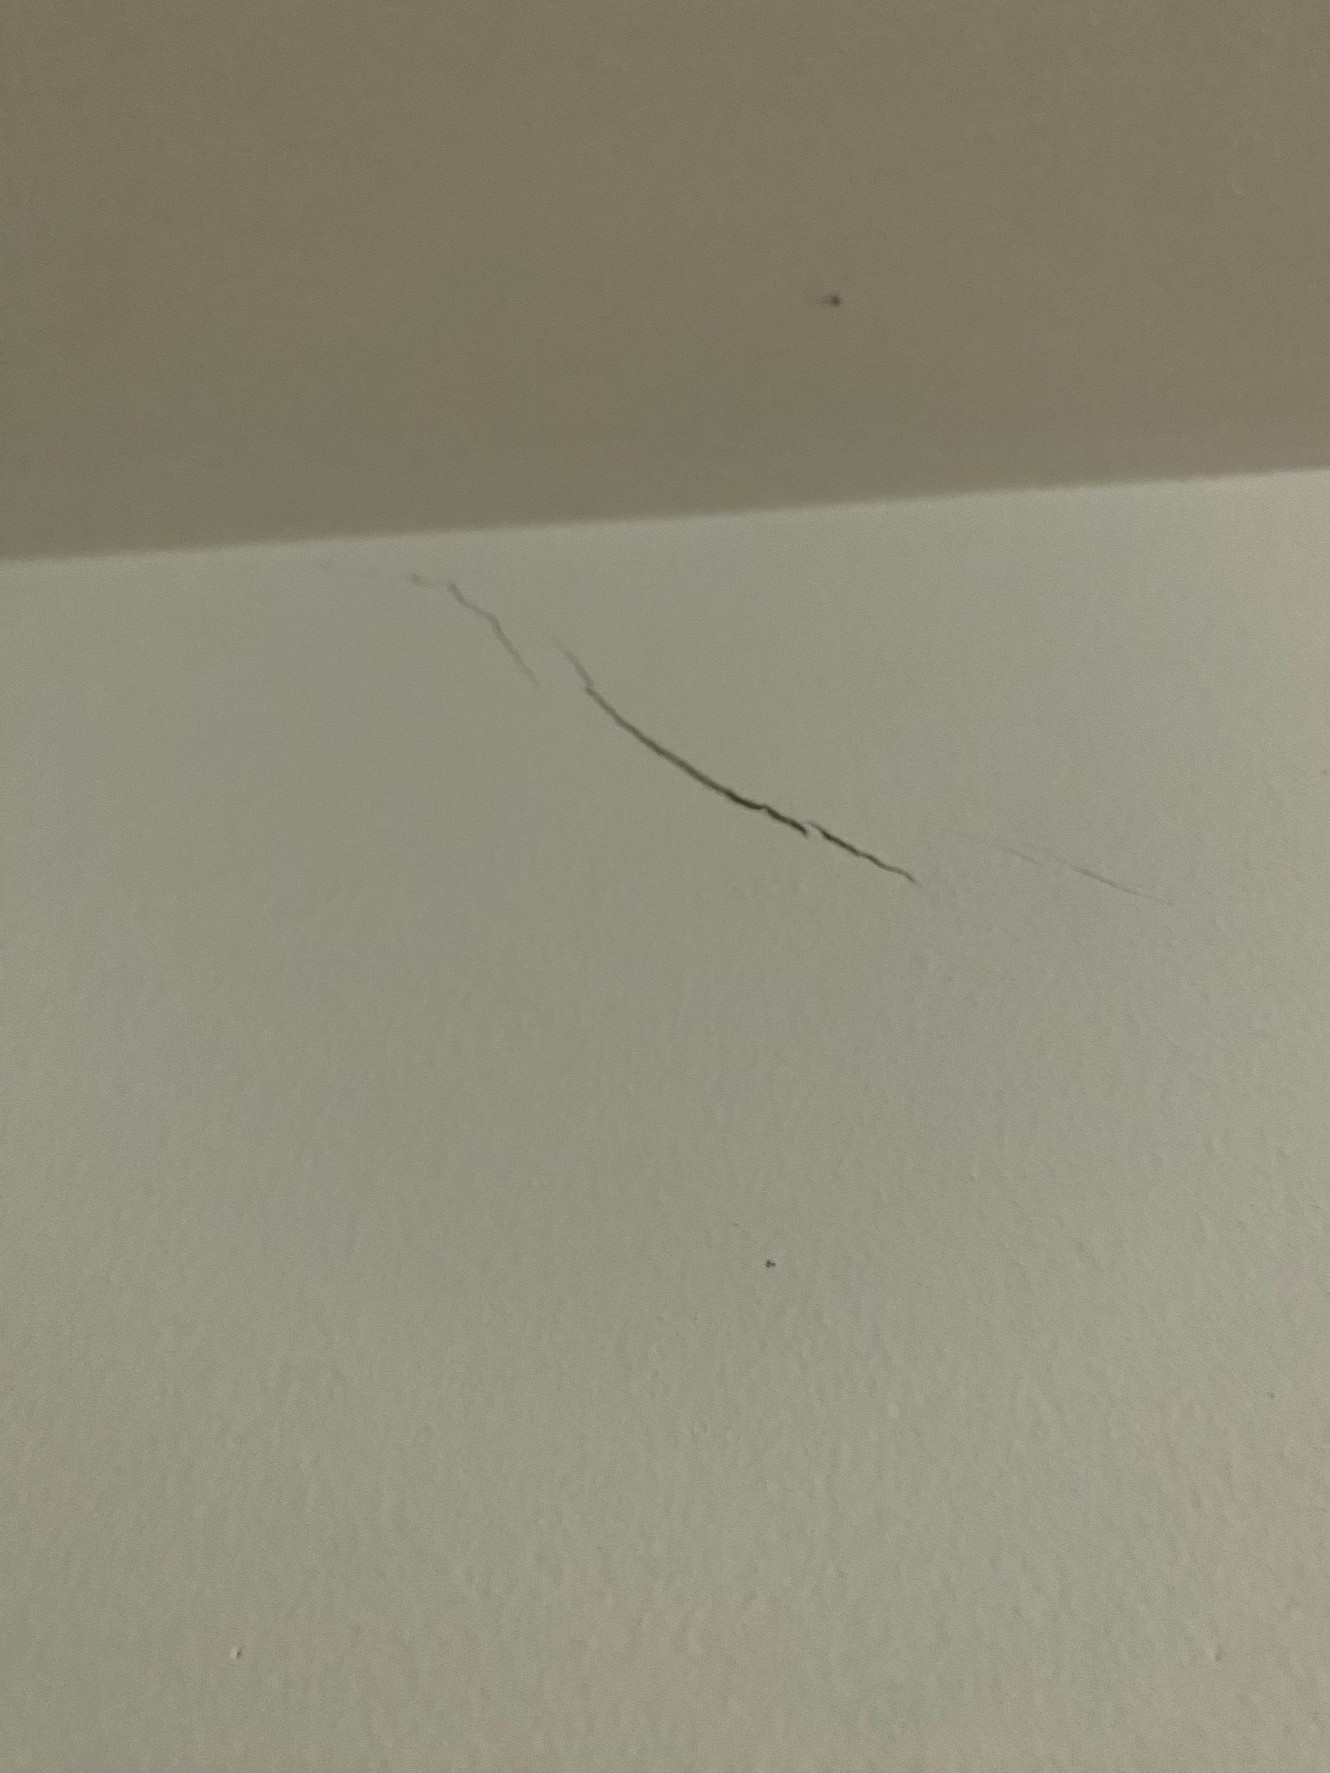Low: (279, 530, 1323, 1048)
